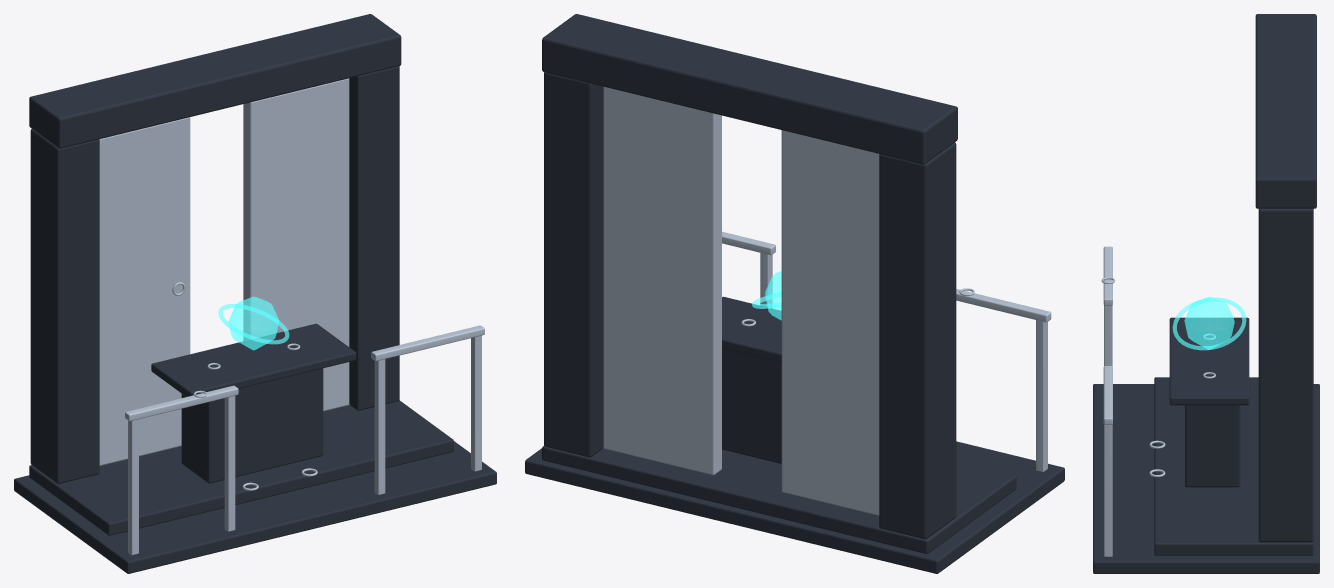
File: webtoon-articulated-scifi-iris-airlock-v20.glb
3 views of the same model, side by side, from view 1: azimuth 30°, elevation 25°; view 2: azimuth 150°, elevation 25°; view 3: azimuth 270°, elevation 25° (orthographic). The views are drawn at different scales.
Visible parts, largest first — view 1: ScifiV20_AirlockBulkhead, Articulated_BlastHatch_L, Articulated_BlastHatch_R, ScifiV20_GuardrailAndIkSockets, Articulated_HoloTacticalCore; view 2: ScifiV20_AirlockBulkhead, Articulated_BlastHatch_R, Articulated_BlastHatch_L, ScifiV20_GuardrailAndIkSockets, Articulated_HoloTacticalCore; view 3: ScifiV20_AirlockBulkhead, ScifiV20_GuardrailAndIkSockets, Articulated_HoloTacticalCore.
Boxes of the visible parts, x1,y1,x2,y2 form: ScifiV20_AirlockBulkhead: [14, 14, 496, 573]; Articulated_BlastHatch_L: [99, 117, 190, 465]; Articulated_BlastHatch_R: [243, 78, 349, 411]; ScifiV20_GuardrailAndIkSockets: [125, 282, 484, 555]; Articulated_HoloTacticalCore: [218, 296, 289, 350]; ScifiV20_AirlockBulkhead: [525, 14, 1064, 573]; Articulated_BlastHatch_R: [603, 87, 721, 475]; Articulated_BlastHatch_L: [781, 130, 879, 515]; ScifiV20_GuardrailAndIkSockets: [722, 231, 1051, 471]; Articulated_HoloTacticalCore: [752, 271, 781, 320]; ScifiV20_AirlockBulkhead: [1093, 14, 1319, 573]; ScifiV20_GuardrailAndIkSockets: [1101, 246, 1215, 556]; Articulated_HoloTacticalCore: [1172, 296, 1246, 350].
Size of the model in its own units: 2.76 by 2.8 by 1.48.
